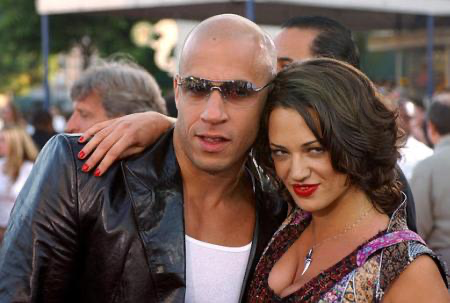Face: (176, 46, 269, 169), (260, 101, 350, 209), (58, 83, 115, 136)
